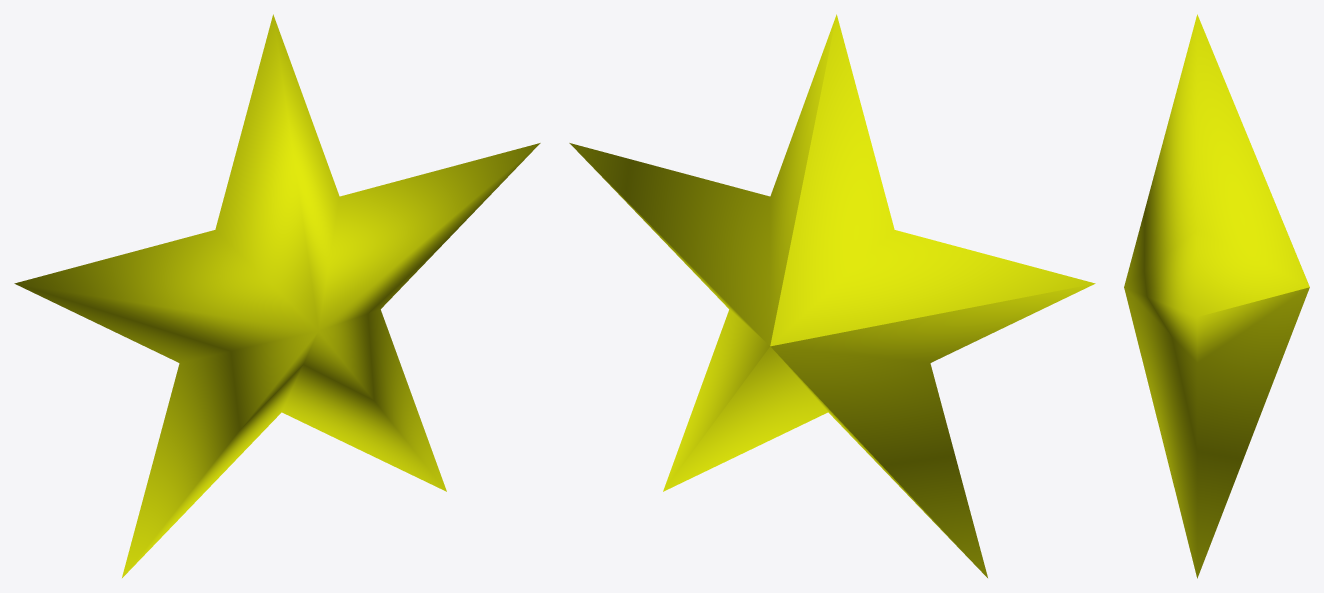
File: Star.fbx
3 renders of one model, left to right at view 1: azimuth 30°, elevation 25°; view 2: azimuth 150°, elevation 25°; view 3: azimuth 270°, elevation 25°, orthographic. The views are drawn at different scales.
Visible parts, largest first — view 1: pCylinder1; view 2: pCylinder1; view 3: pCylinder1.
Boxes of the visible parts, <box> form: pCylinder1: <box>14,14,540,577</box>; pCylinder1: <box>569,14,1095,577</box>; pCylinder1: <box>1124,14,1309,578</box>.
Size of the model in its own units: 3.05 by 2.92 by 0.9997.
